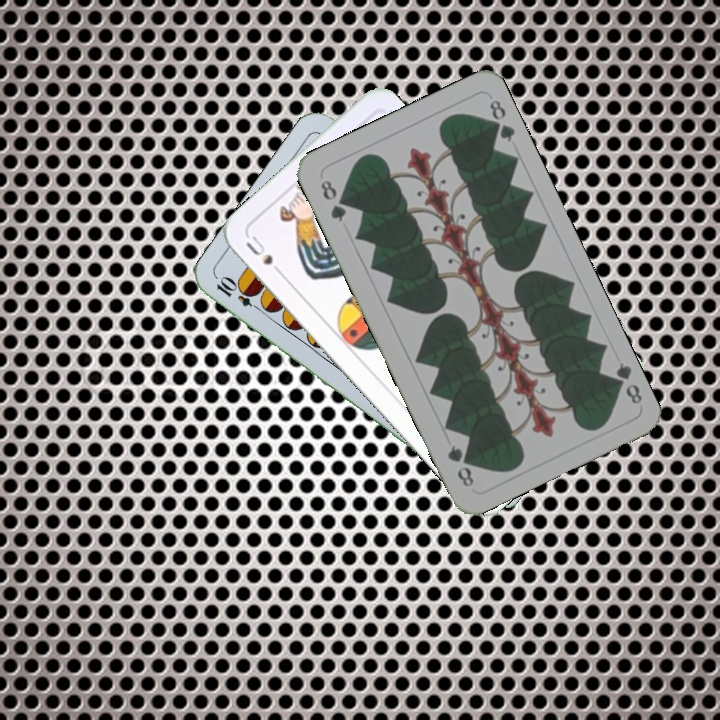E10: (212, 274, 267, 315)
G8: (606, 358, 645, 407), (316, 175, 349, 225)
SU: (241, 231, 288, 280)
